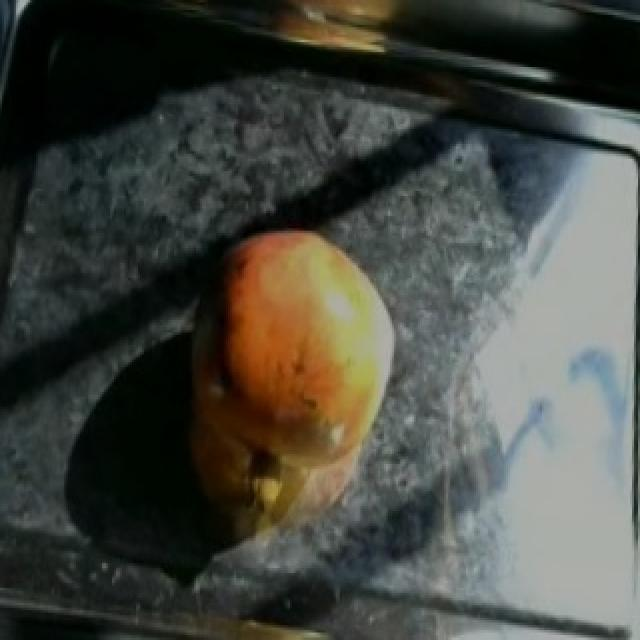fruit: (168, 193, 418, 469)
